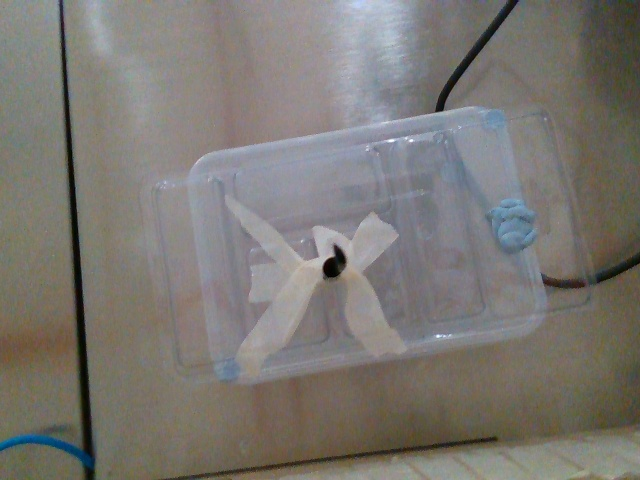test_strip: (328, 242, 346, 273)
